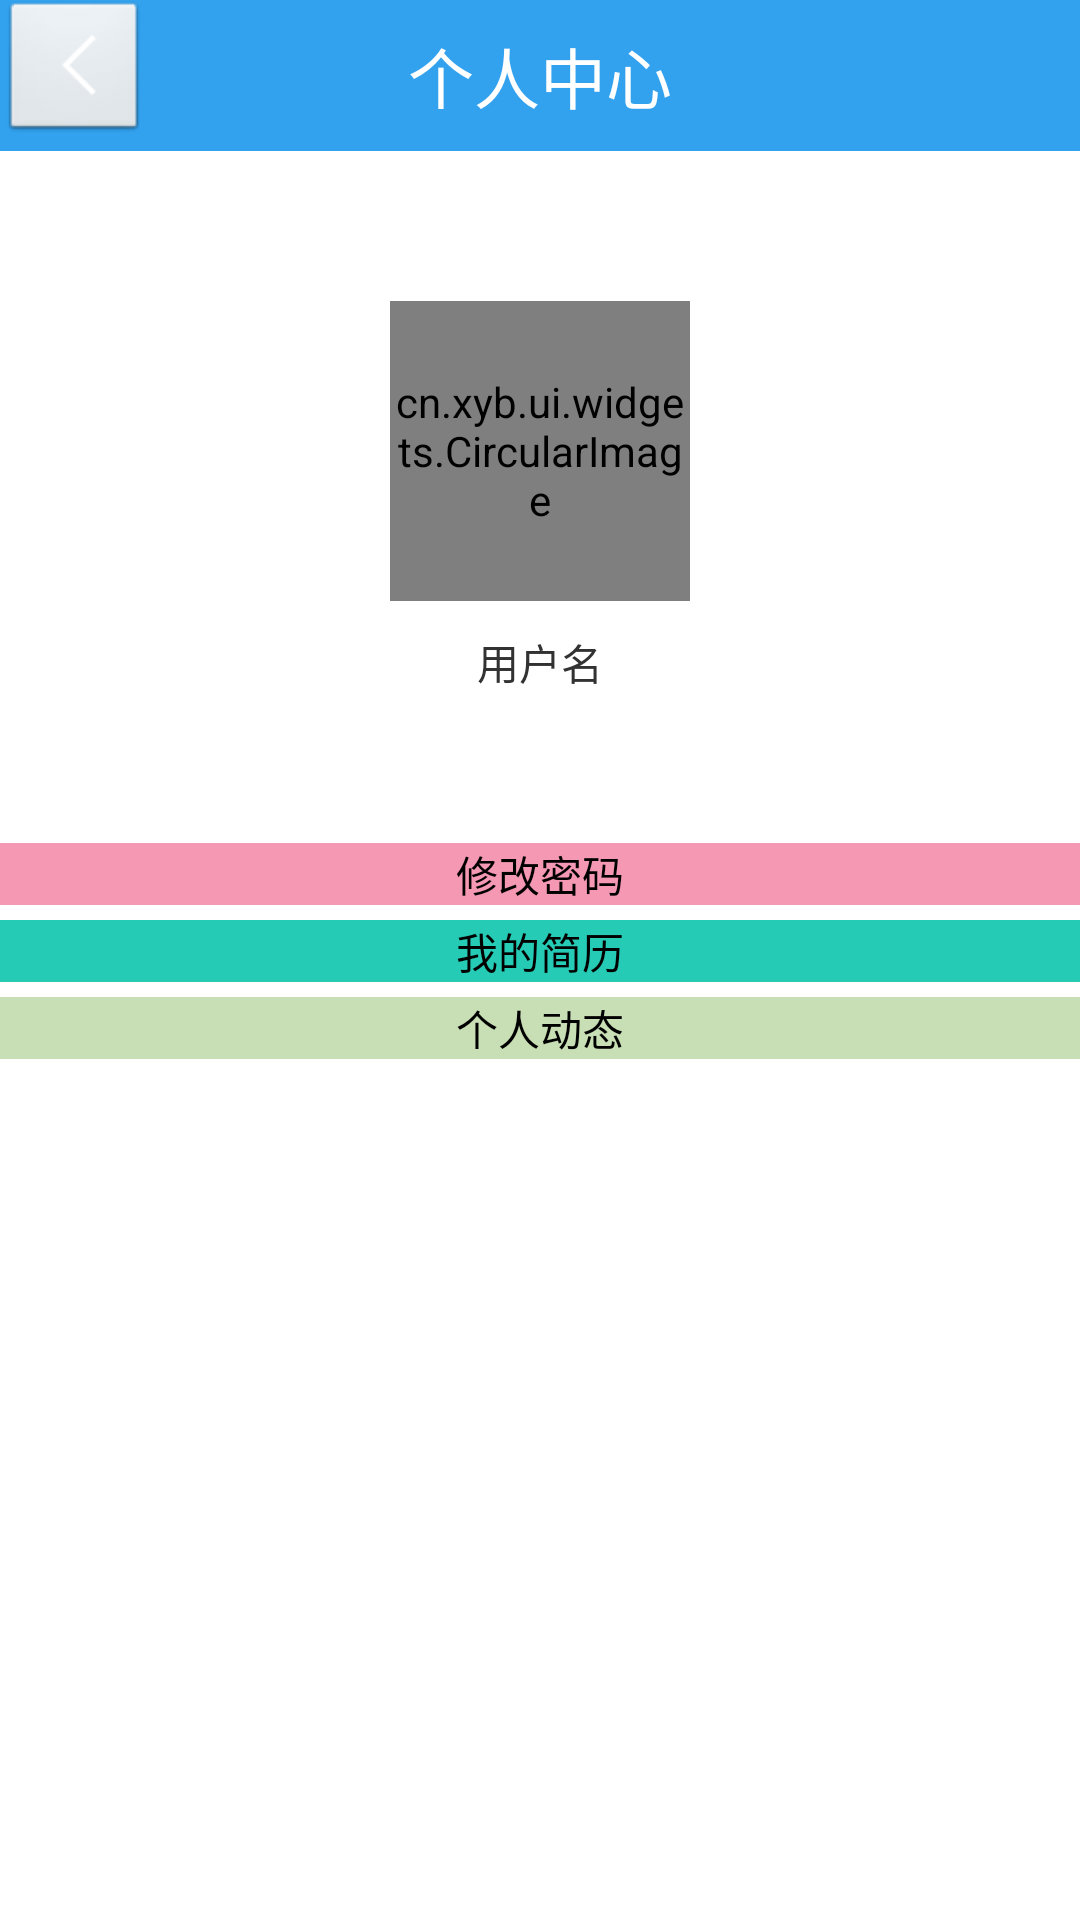

Icons on this 1080*1920 Android screen, each with the point to tap as (x=x, y=y):
back: (x=74, y=66)
